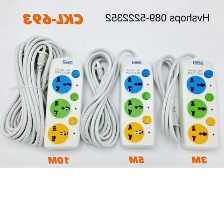three_eye_plug: (107, 53, 159, 152), (37, 53, 88, 152), (174, 52, 221, 154)
